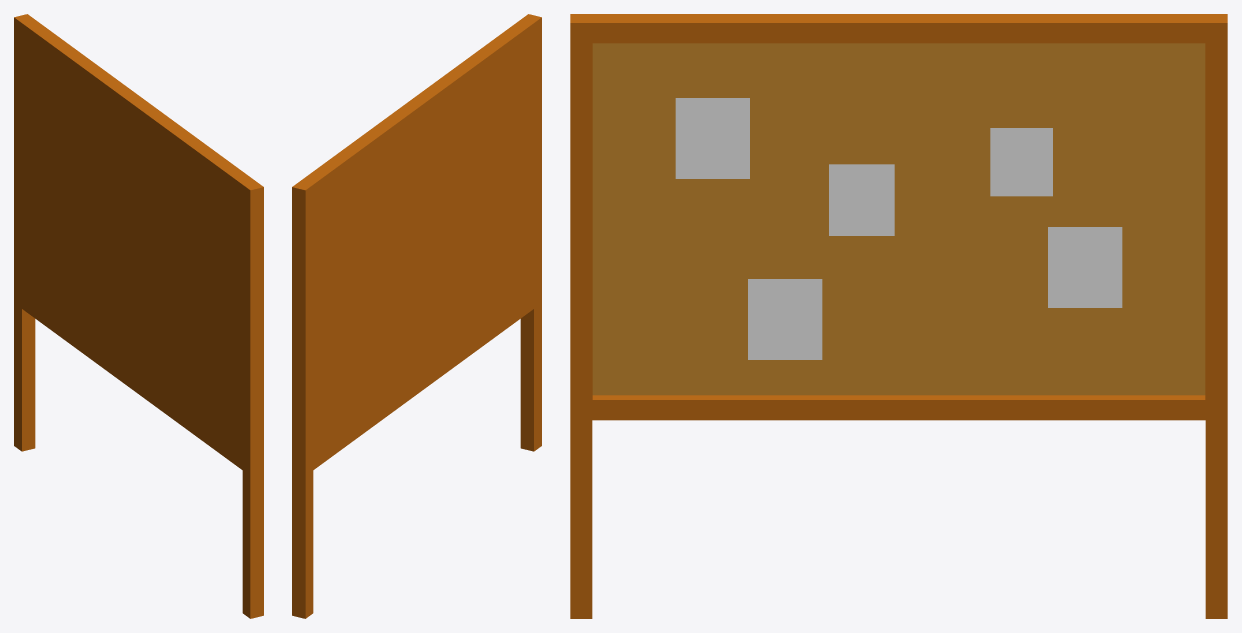
The model's file is InvestigativeBoard.fbx.
3 renders of one model, left to right at view 1: azimuth 30°, elevation 25°; view 2: azimuth 150°, elevation 25°; view 3: azimuth 270°, elevation 25°, orthographic. The views are drawn at different scales.
Parts seen in each view (by area): view 1: InvestigativeBoard; view 2: InvestigativeBoard; view 3: InvestigativeBoard, Plane, Plane.001, Plane.002, Plane.004, Plane.003.
Boxes of the visible parts, left/top/right/bottom form: InvestigativeBoard: left=14, top=14, right=263, bottom=618; InvestigativeBoard: left=292, top=14, right=541, bottom=618; InvestigativeBoard: left=570, top=14, right=1227, bottom=618; Plane: left=675, top=98, right=749, bottom=178; Plane.001: left=1048, top=227, right=1122, bottom=307; Plane.002: left=748, top=279, right=822, bottom=359; Plane.004: left=829, top=164, right=894, bottom=235; Plane.003: left=990, top=128, right=1052, bottom=196.
Size of the model in its own units: 19.78 by 600 by 600.
